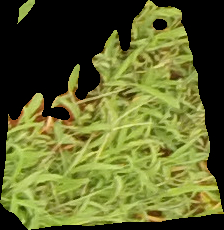grass: (1, 1, 222, 229)
